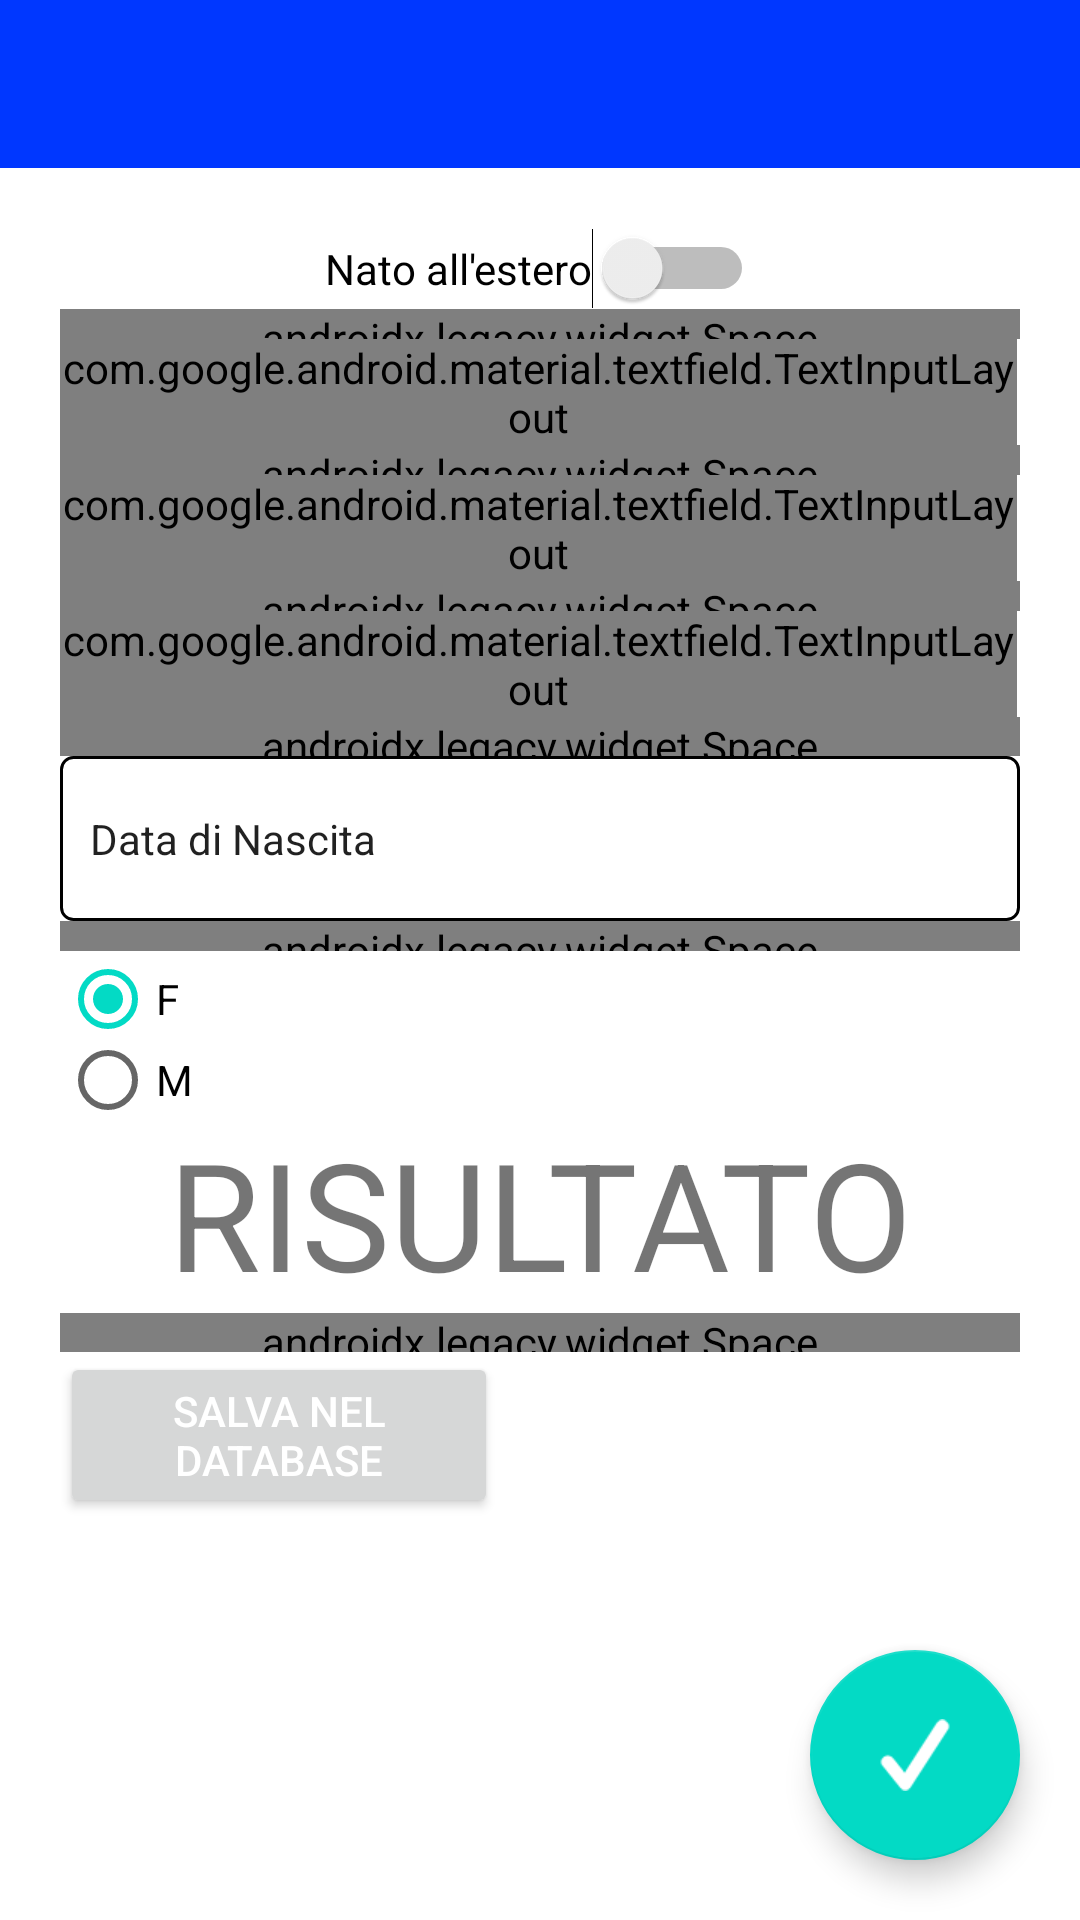

Icons on this 1080 x 1920 Android screen, each with its box as (x1, y1, x2, y2):
tick: (810, 1650, 1020, 1860)
